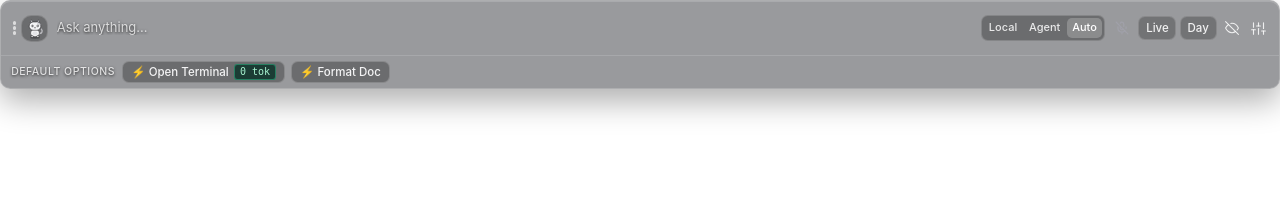
FloatingBar › renders 1-click Default Options pills, runs Tier-0 playbook, supports Re-ask AI & Worked feedback, and shows Tier-1 Graph badge
Expected: the element with test id "default-options-strip" shows "Default Options", [11, 66, 115, 78]
Expected: the button with test id "default-option-pill-pb-2" reads "⚡ Format Doc", [290, 61, 390, 83]
Clicking pill runs run_playbook immediately and displays Tier-0 badge + Re-ask AI
Click the button with test id "default-option-pill-pb-1" at (204, 72), box [122, 61, 286, 83]
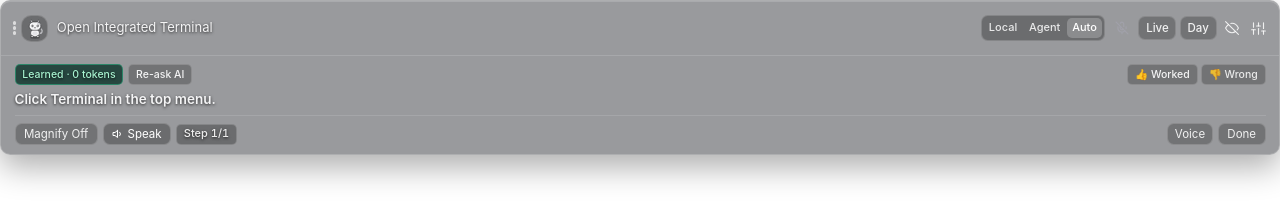
Now the text with test id "resolution-tier-badge" reads "Learned · 0 tokens", box [22, 68, 116, 81]
Now the text with test id "instruction-line" reads "Click Terminal in the top menu.", box [14, 91, 216, 107]
Worked feedback calls report_guidance_feedback and refreshes default options
Click the button with test id "feedback-worked-btn" at (1162, 75), box [1127, 64, 1198, 85]
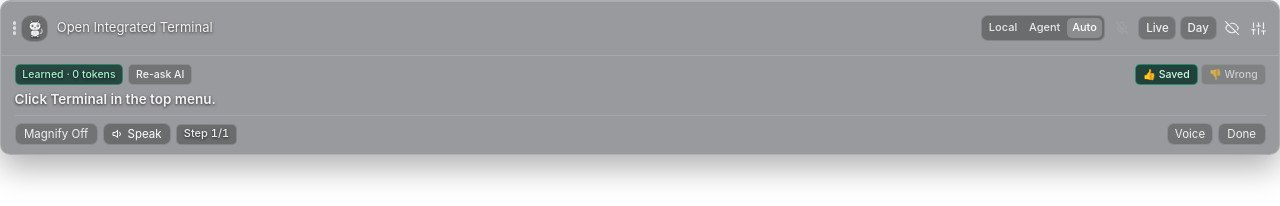
Re-ask AI invokes ask with forceAi: true
Click the button with test id "reask-ai-btn" at (160, 75), box [128, 64, 192, 85]
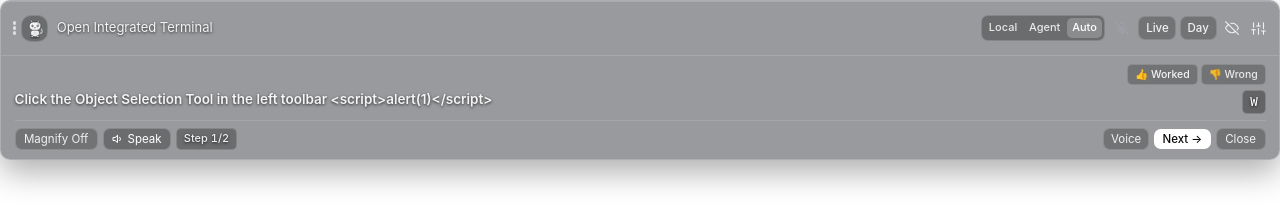
Tier-1 Graph badge
Replace the text in the field with test id "bar-query-input" with "graph-tier1-test" at (515, 28), box [52, 18, 978, 37]
Then press Enter
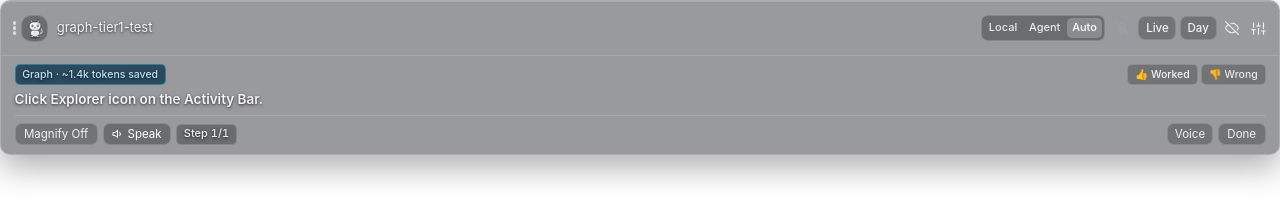
Now the text with test id "resolution-tier-badge" reads "Graph · ~1.4k tokens saved", box [14, 64, 166, 85]
